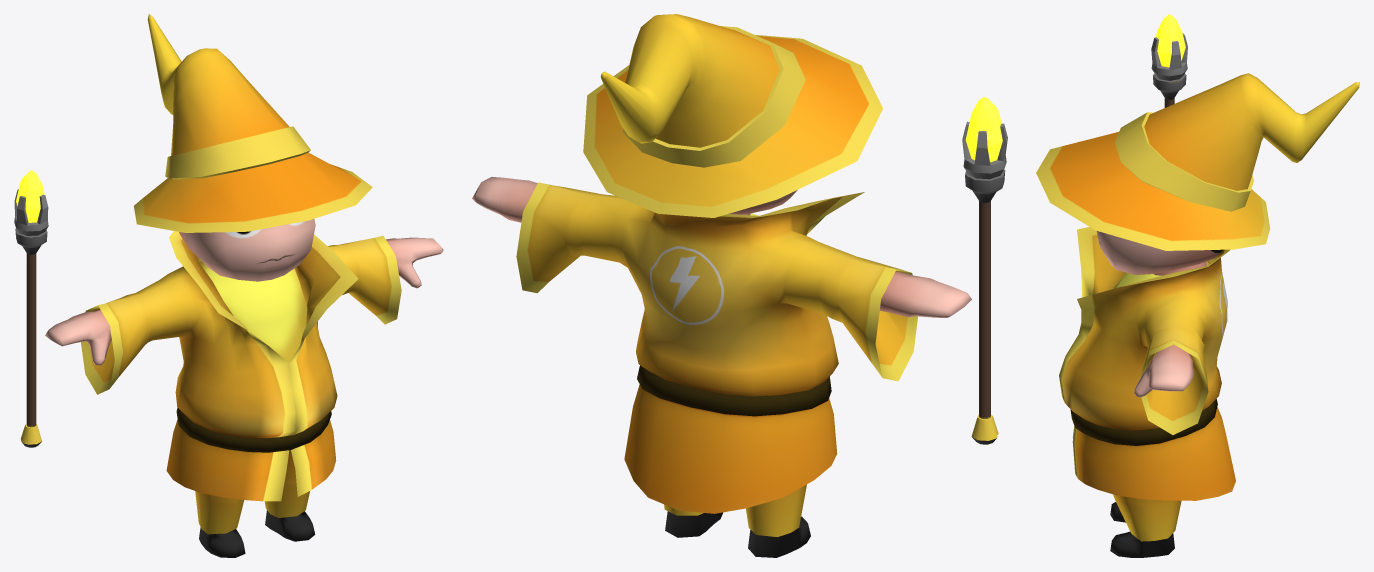
File: Electric Mage.fbx
3 renders of one model, left to right at view 1: azimuth 30°, elevation 25°; view 2: azimuth 150°, elevation 25°; view 3: azimuth 270°, elevation 25°, orthographic. The views are drawn at different scales.
Parts seen in each view (by area): view 1: Electric Mage, Electric Hat, Electric.001; view 2: Electric Mage, Electric Hat, Electric.001; view 3: Electric Mage, Electric Hat, Electric.001.
Boxes of the visible parts, x1=… form: Electric Mage: x1=45, y1=219, x2=443, y2=557; Electric Hat: x1=134, y1=14, x2=372, y2=232; Electric.001: x1=14, y1=170, x2=48, y2=447; Electric Mage: x1=472, y1=177, x2=971, y2=557; Electric Hat: x1=583, y1=14, x2=882, y2=217; Electric.001: x1=962, y1=97, x2=1007, y2=444; Electric Mage: x1=1059, y1=227, x2=1235, y2=557; Electric Hat: x1=1036, y1=73, x2=1359, y2=250; Electric.001: x1=1151, y1=14, x2=1187, y2=107.
Bounding box in the file's own units: 508 × 520 × 334.
Materials: 3 (3 with a texture image).
